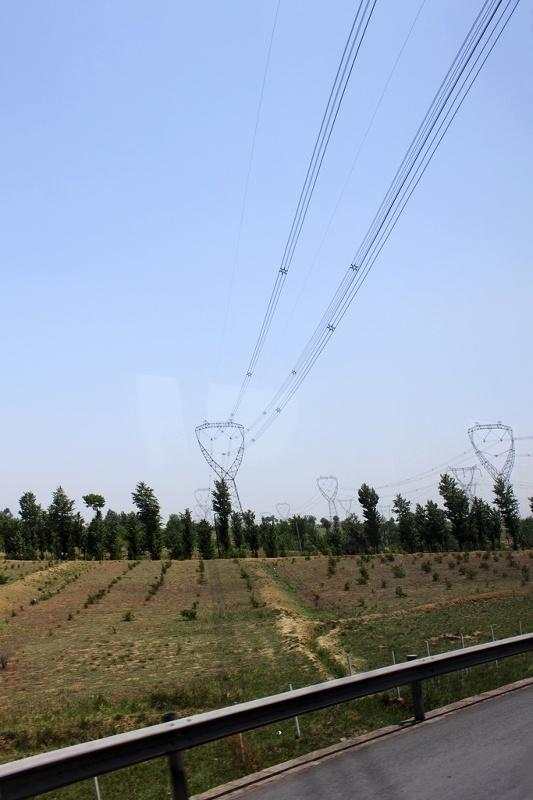power_tower: (193, 415, 254, 527), (463, 418, 522, 502), (308, 467, 338, 524)
